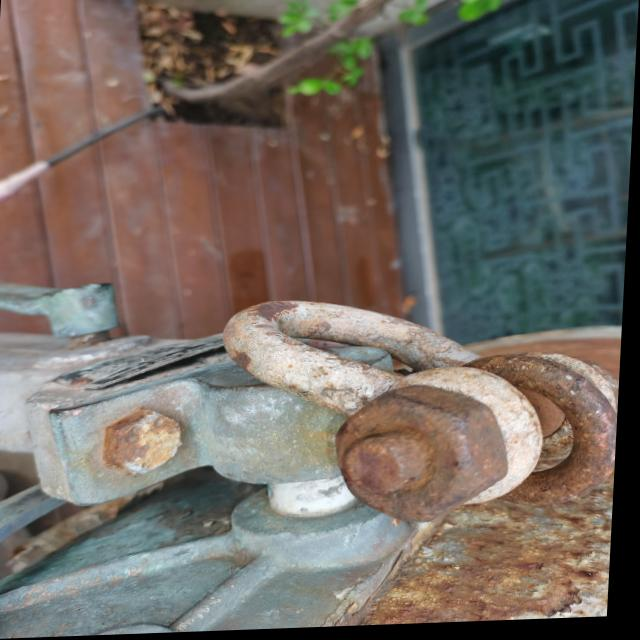Rusty bolt: (335, 388, 512, 525), (107, 411, 188, 479)
